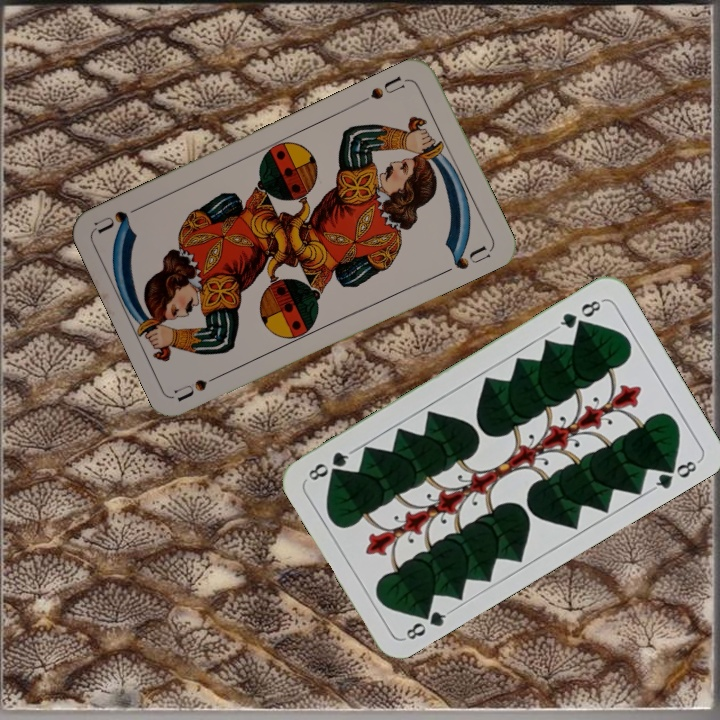G8: (400, 602, 454, 644), (552, 296, 606, 332)
SU: (171, 367, 229, 403), (356, 72, 412, 106)
